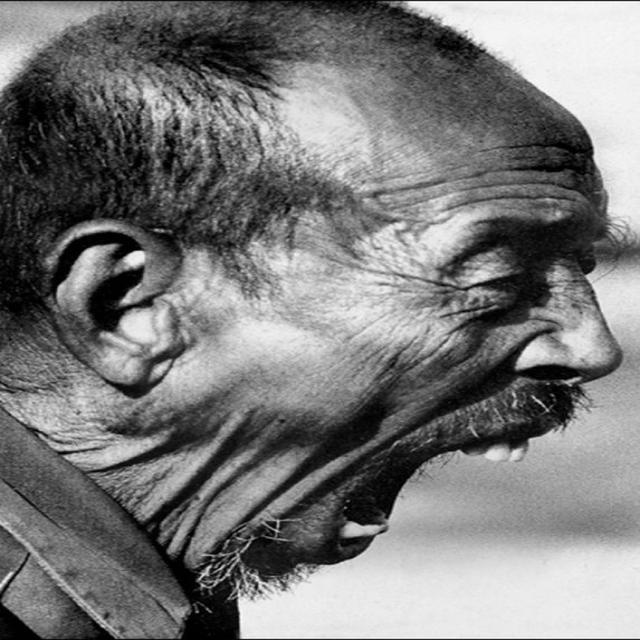front: (302, 188, 617, 614)
